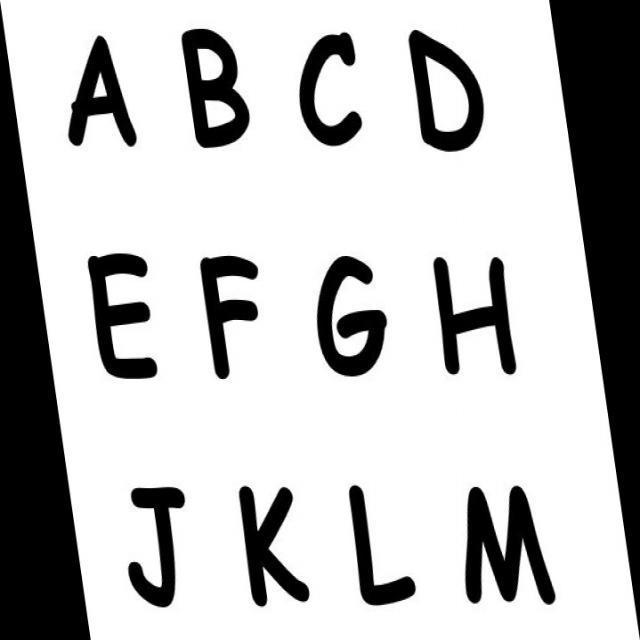A: (57, 26, 144, 158)
B: (177, 23, 259, 156)
D: (398, 25, 494, 159)
E: (77, 247, 171, 384)
F: (189, 245, 271, 388)
G: (311, 242, 392, 386)
H: (421, 241, 527, 388)
K: (225, 471, 319, 615)
L: (333, 468, 420, 612)
M: (451, 463, 567, 615)
